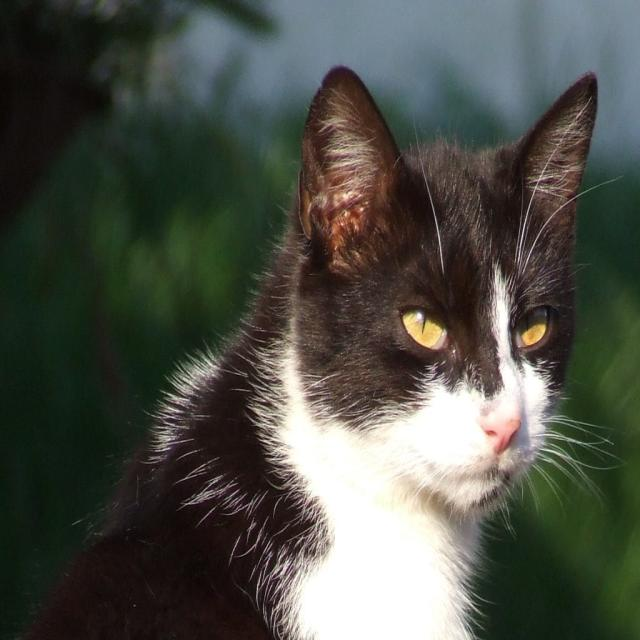Cat: (11, 69, 626, 638)
